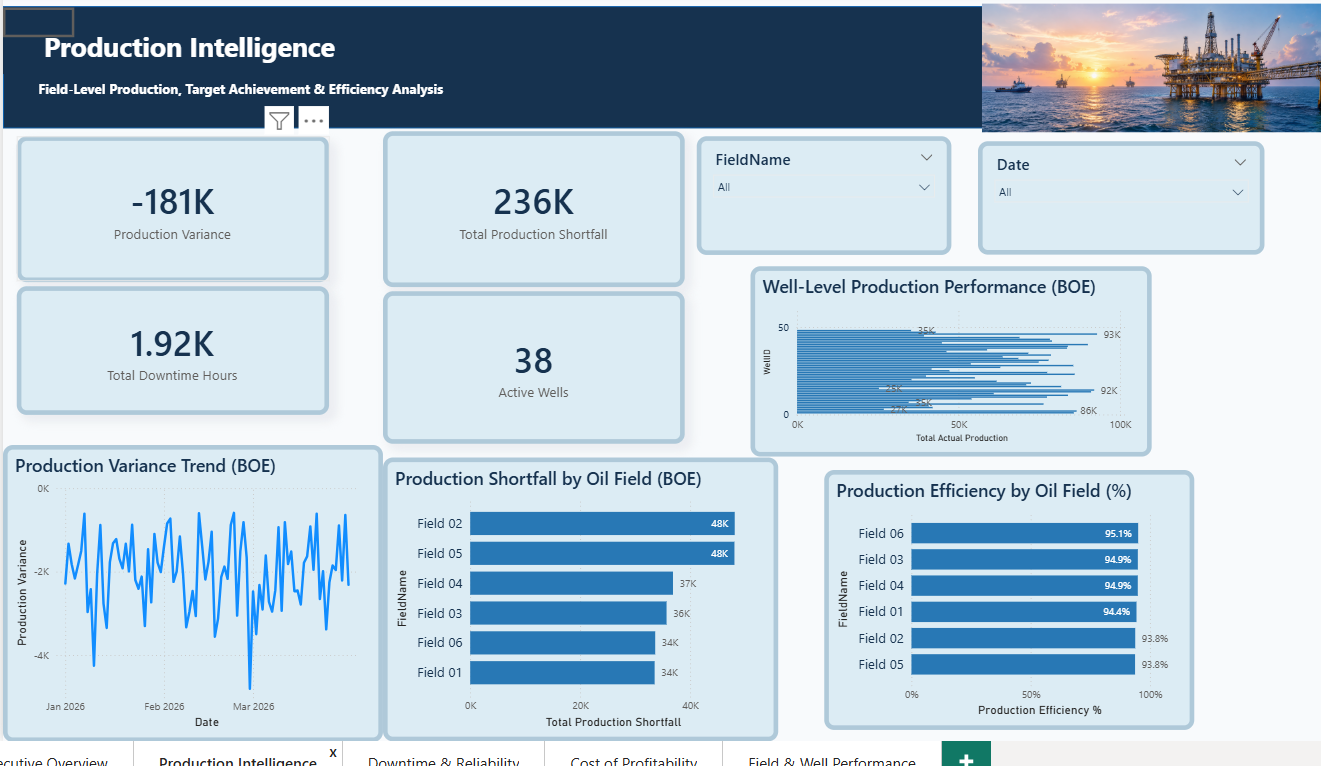

The dashboard page shown, as its layout file describes it:
{"tool":"powerbi","page":{"name":"Production Intelligence","canvas":[1600,900],"ordinal":1},"visuals":[{"type":"shape","box":[0,14.3,1193.1,147.4],"z":0},{"type":"textbox","box":[0,36.8,1103.1,59.4],"z":1000},{"type":"image","box":[1176.8,0,423.6,176],"z":2000},{"type":"textbox","box":[38.5,97,512.7,38.5],"z":3000},{"type":"card","fields":{"Values":["DailyProduction.Production Variance"]},"box":[16.4,169.9,376.6,176],"z":4000},{"type":"card","fields":{"Values":["DailyProduction.Total Production Shortfall"]},"box":[458.4,163.7,364.3,188.3],"z":5000},{"type":"card","fields":{"Values":["Wells.Active Wells"]},"box":[458.4,358.1,364.3,184.2],"z":6000},{"type":"card","fields":{"Values":["DailyProduction.Total Downtime Hours"]},"box":[16.4,352,376.6,155.5],"z":7000},{"type":"lineChart","title":"Production Variance Trend (BOE)","fields":{"Category":["DailyProduction.Date"],"Y":["DailyProduction.Production Variance"]},"box":[0,542.3,458.4,358.1],"z":8000},{"type":"clusteredBarChart","title":"Production Shortfall by Oil Field (BOE)","fields":{"Category":["Fields.FieldName"],"Y":["DailyProduction.Total Production Shortfall"]},"box":[458.8,557.3,476.7,342.3],"z":9000},{"type":"clusteredBarChart","title":"Production Efficiency by Oil Field (%)","fields":{"Category":["Fields.FieldName"],"Y":["DailyProduction.Production Efficiency %"]},"box":[991,573.5,446.2,313.6],"z":10000},{"type":"slicer","fields":{"Values":["Fields.FieldName"]},"box":[837,169.9,307,143.3],"z":11000},{"type":"slicer","fields":{"Values":["DailyProduction.Date"]},"box":[1176.8,176,345.9,137.1],"z":12000},{"type":"clusteredBarChart","title":"Well-Level Production Performance (BOE)","fields":{"Y":["DailyProduction.Total Actual Production"],"Category":["Wells.WellID"]},"box":[901.4,328,483.9,229.4],"z":13000},{"type":"actionButton","box":[0,14.3,86,35.8],"z":13001}]}

Visuals, with their boxes on the page's 1600x900 design canvas (x1, y1, x2, y2). These are canvas units, not pixel positions in the 1321x766 screenshot, which may show the page scaled, cropped or inside an application window:
shape: <bbox>0, 14, 1193, 162</bbox>
textbox: <bbox>0, 37, 1103, 96</bbox>
image: <bbox>1177, 0, 1600, 176</bbox>
textbox: <bbox>38, 97, 551, 136</bbox>
card - DailyProduction.Production Variance: <bbox>16, 170, 393, 346</bbox>
card - DailyProduction.Total Production Shortfall: <bbox>458, 164, 823, 352</bbox>
card - Wells.Active Wells: <bbox>458, 358, 823, 542</bbox>
card - DailyProduction.Total Downtime Hours: <bbox>16, 352, 393, 508</bbox>
"Production Variance Trend (BOE)" lineChart: <bbox>0, 542, 458, 900</bbox>
"Production Shortfall by Oil Field (BOE)" clusteredBarChart: <bbox>459, 557, 936, 900</bbox>
"Production Efficiency by Oil Field (%)" clusteredBarChart: <bbox>991, 574, 1437, 887</bbox>
slicer - Fields.FieldName: <bbox>837, 170, 1144, 313</bbox>
slicer - DailyProduction.Date: <bbox>1177, 176, 1523, 313</bbox>
"Well-Level Production Performance (BOE)" clusteredBarChart: <bbox>901, 328, 1385, 557</bbox>
actionButton: <bbox>0, 14, 86, 50</bbox>
